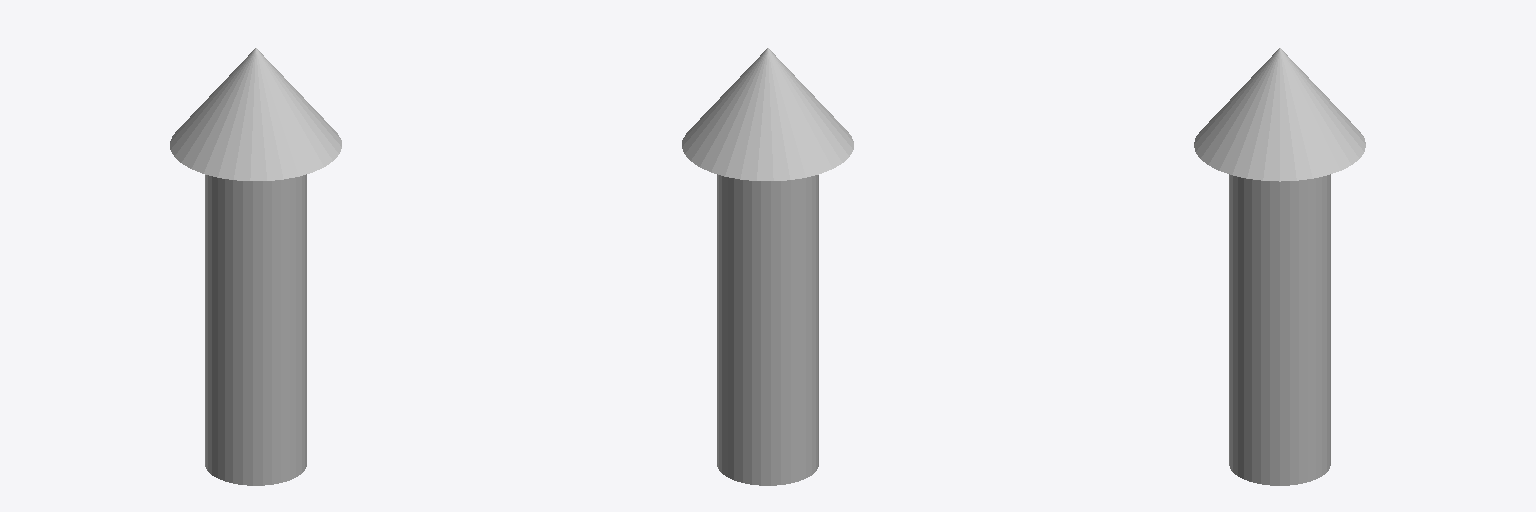
Rendered from EnergyGenerator_LP.obj.
3 renders of one model, left to right at view 1: azimuth 30°, elevation 25°; view 2: azimuth 150°, elevation 25°; view 3: azimuth 270°, elevation 25°, orthographic.
Parts seen in each view (by area): view 1: Cylinder, Cone; view 2: Cylinder, Cone; view 3: Cylinder, Cone.
Part boxes in pixels (x1,y1,x2,y2): Cylinder: (205,174,306,485); Cone: (170,48,341,180); Cylinder: (717,174,818,485); Cone: (682,48,853,180); Cylinder: (1229,174,1330,485); Cone: (1194,48,1365,181).
Bounding box in the file's own units: 3.39 × 9.03 × 3.39.